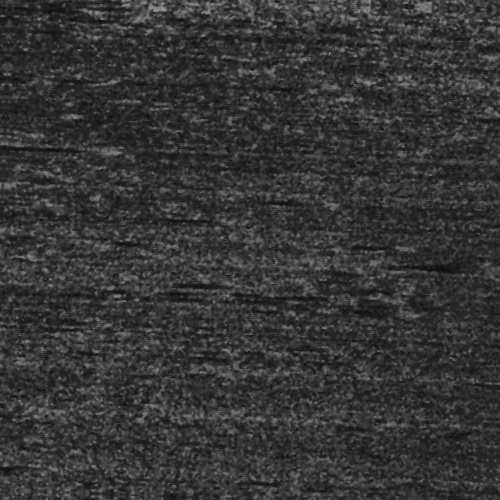object: (88, 152, 151, 157)
shadow: (29, 152, 119, 157)
